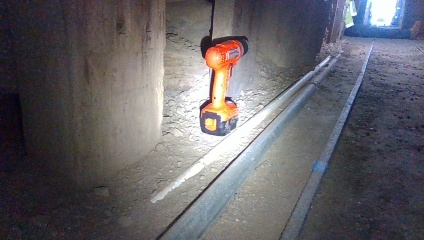drill: (197, 34, 251, 136)
manikin: (340, 0, 420, 40)
